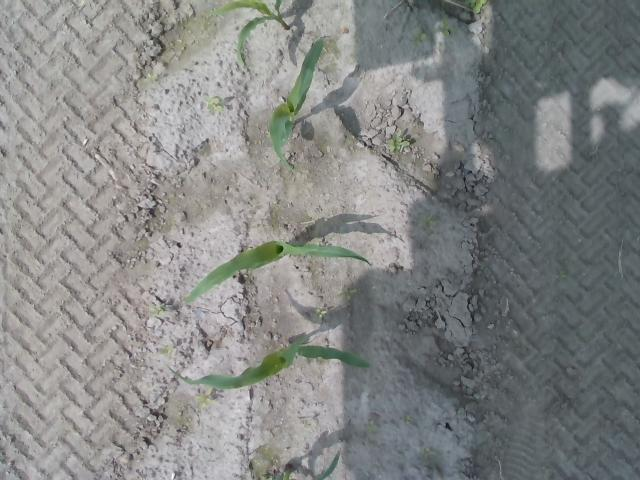Maize: (180, 238, 372, 304), (165, 332, 373, 392), (266, 35, 326, 177), (216, 0, 290, 74)
Weeds: (192, 389, 215, 408), (388, 134, 410, 152), (206, 97, 227, 113), (464, 0, 488, 14), (340, 287, 359, 302), (412, 32, 428, 47), (419, 214, 436, 228), (150, 304, 166, 318), (142, 72, 158, 84), (316, 306, 328, 320), (420, 447, 436, 457), (164, 344, 175, 358), (277, 473, 295, 480), (402, 415, 412, 424)
